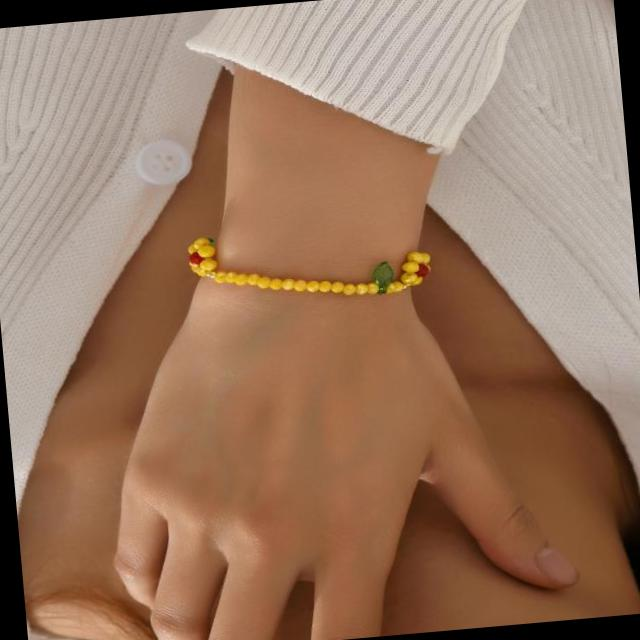Nail: (532, 544, 577, 588)
